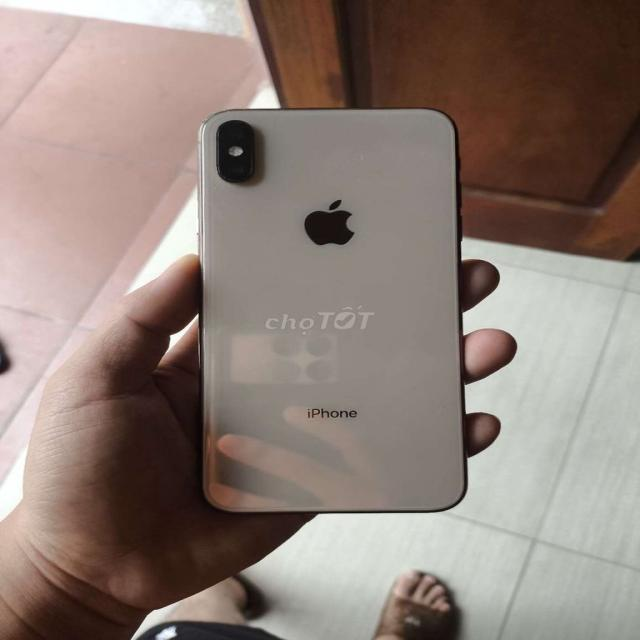gen_x_xs: (199, 109, 467, 514)
